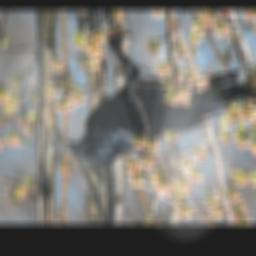Crow: (57, 37, 256, 168)
